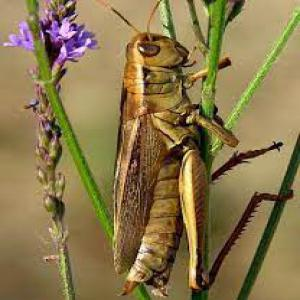locust: (84, 1, 254, 299)
